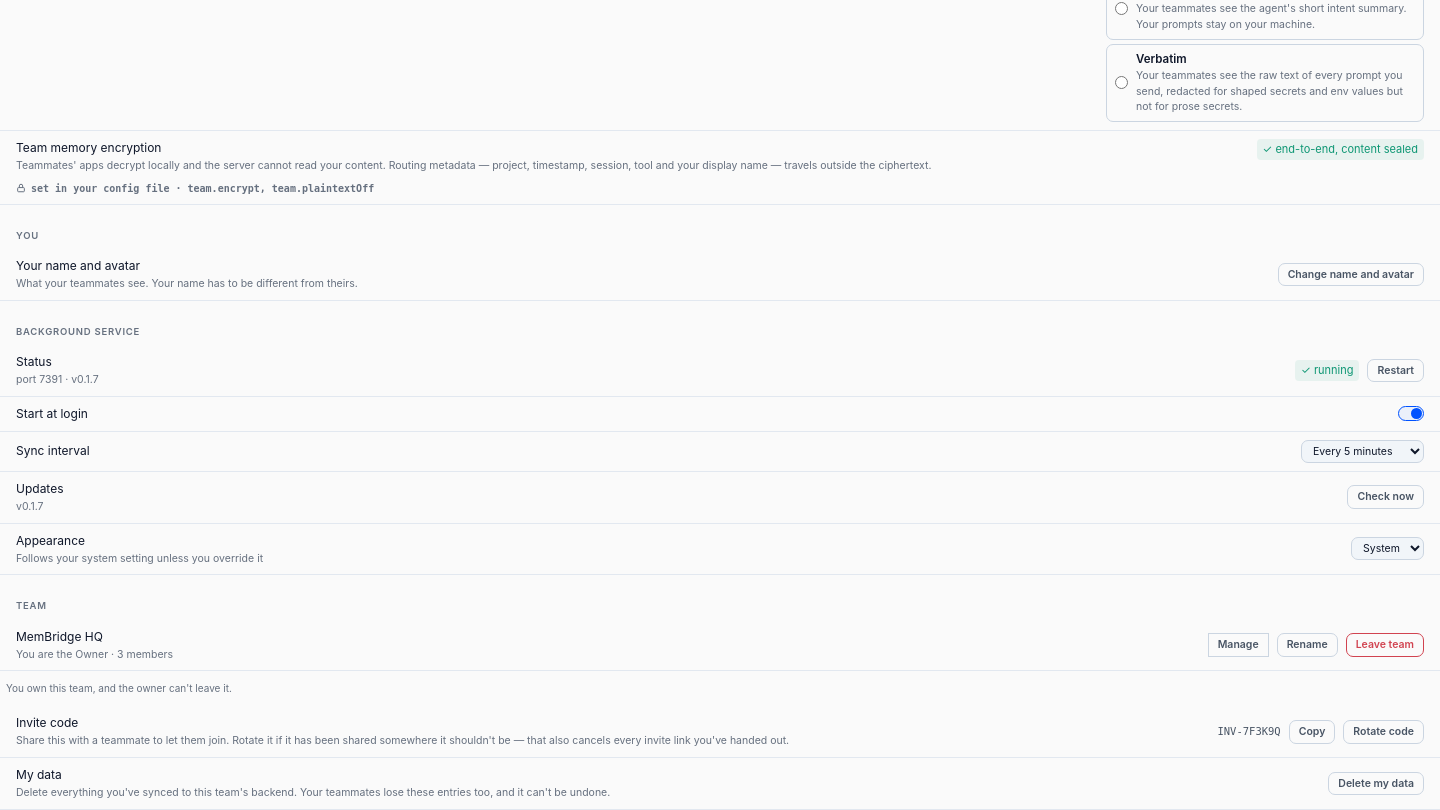
Test: deleting my own data from Settings › states the backend total before asking, not a local count
(page scrolled)
Click the button "Delete my data" at point(1376, 783), box 1328,772 -> 1424,795
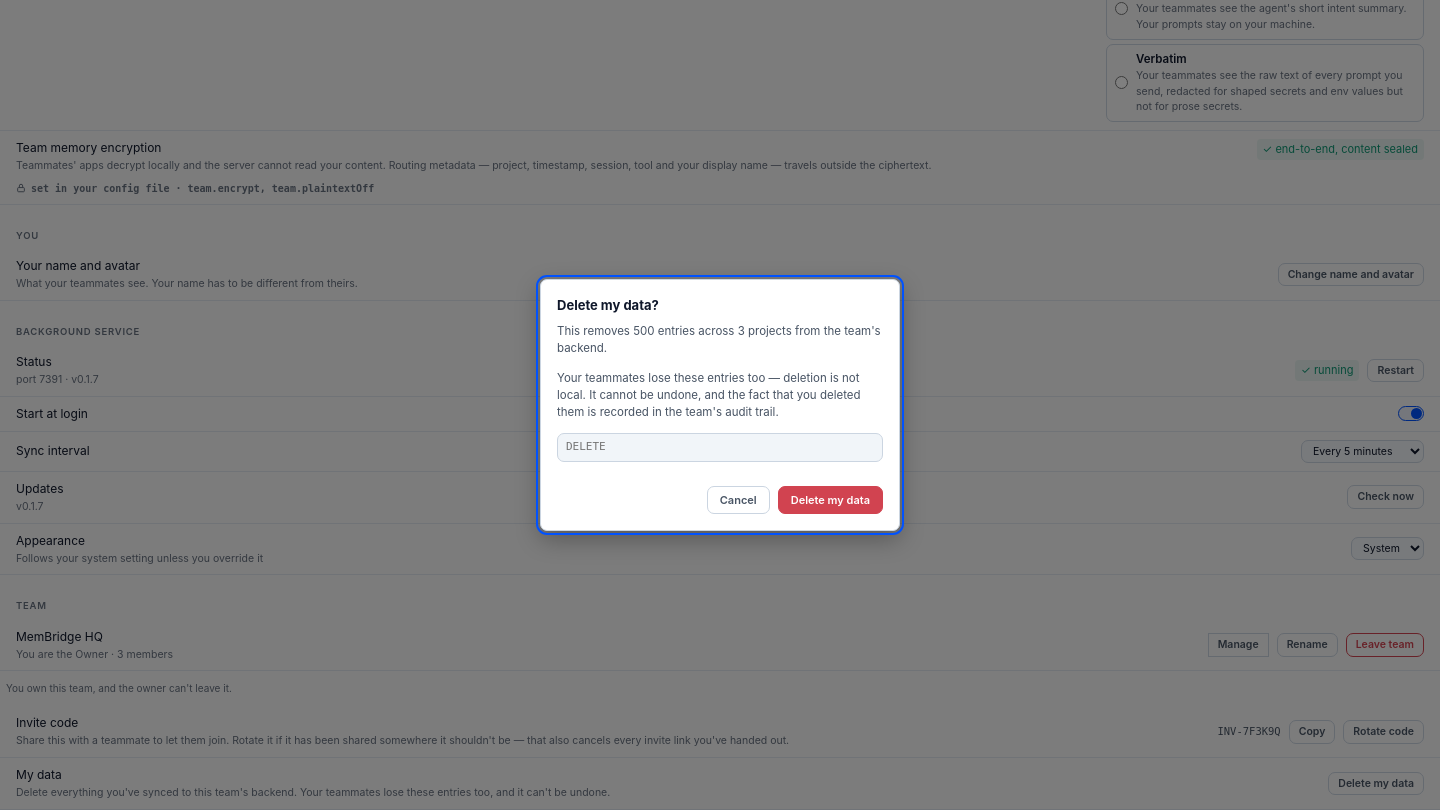
Now the text "3 projects" is shown, box 557,324 -> 881,355
